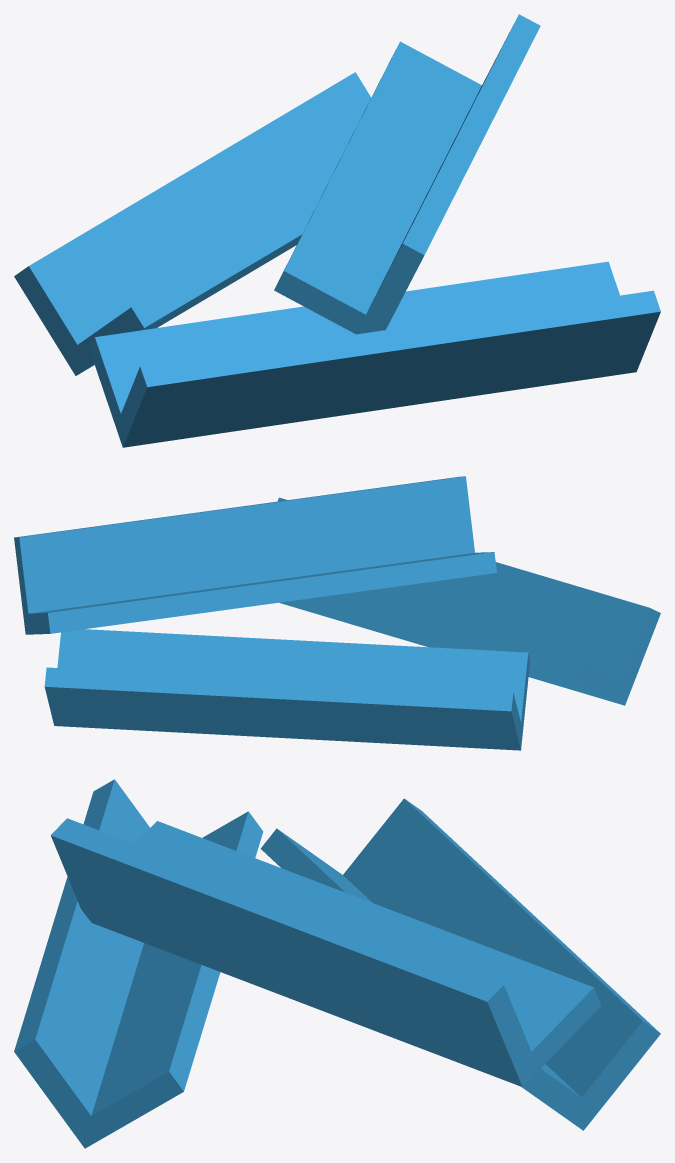
File: Tank_Trap_Destroyed.fbx
3 views of the same model, one above another, from view 1: azimuth 30°, elevation 25°; view 2: azimuth 150°, elevation 25°; view 3: azimuth 270°, elevation 25° (orthographic). The views are drawn at different scales.
Visible parts, largest first — view 1: Tank_Trap_Destroyed; view 2: Tank_Trap_Destroyed; view 3: Tank_Trap_Destroyed.
Boxes of the visible parts, x1,y1,x2,y2 form: Tank_Trap_Destroyed: [14, 14, 660, 447]; Tank_Trap_Destroyed: [14, 476, 660, 750]; Tank_Trap_Destroyed: [14, 779, 660, 1148].
Bounding box in the file's own units: 2.03 × 0.6501 × 1.86.
Materials: 1 (1 with a texture image).
